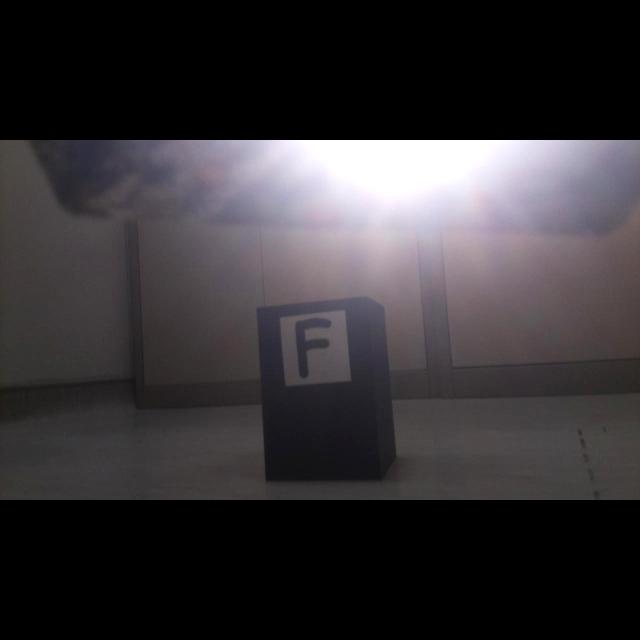F: (295, 318, 331, 378)
